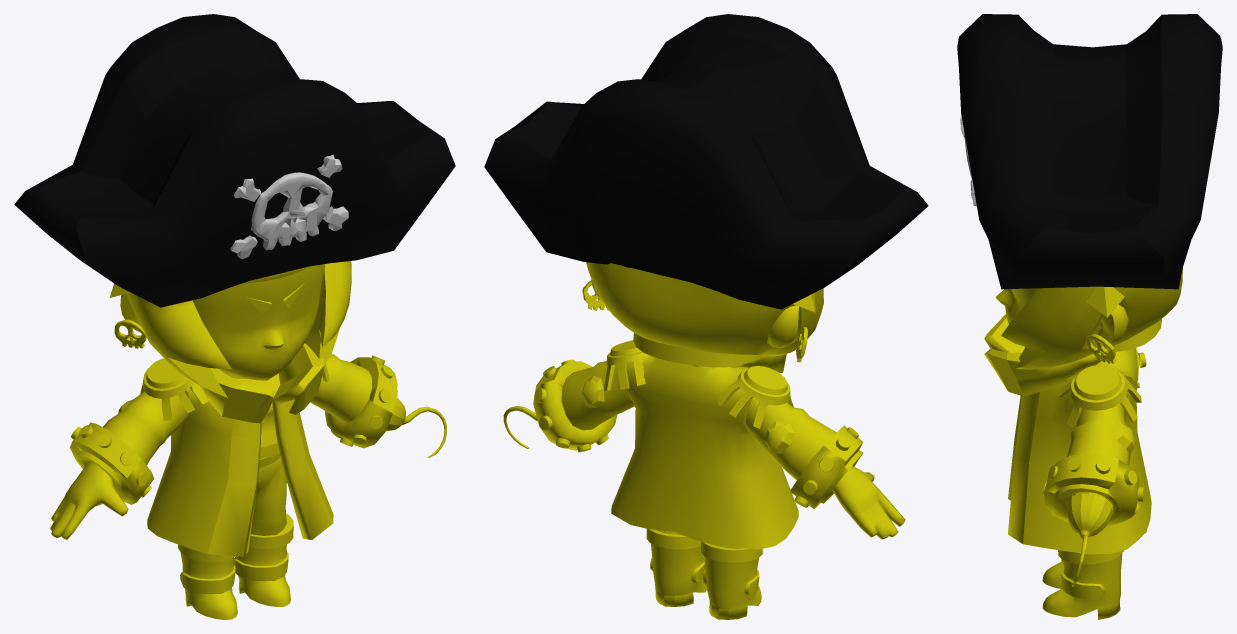
The model's file is Character-Pirate.fbx.
3 views of the same model, side by side, from view 1: azimuth 30°, elevation 25°; view 2: azimuth 150°, elevation 25°; view 3: azimuth 270°, elevation 25° (orthographic). The views are drawn at different scales.
Parts seen in each view (by area): view 1: Hat, Character; view 2: Hat, Character; view 3: Hat, Character.
Part boxes in pixels (bbox=[...]): Hat: bbox=[14, 14, 455, 307]; Character: bbox=[50, 261, 446, 619]; Hat: bbox=[484, 14, 928, 309]; Character: bbox=[503, 262, 905, 619]; Hat: bbox=[957, 14, 1222, 289]; Character: bbox=[984, 267, 1182, 619].
Size of the model in its own units: 111 by 146 by 61.86.
